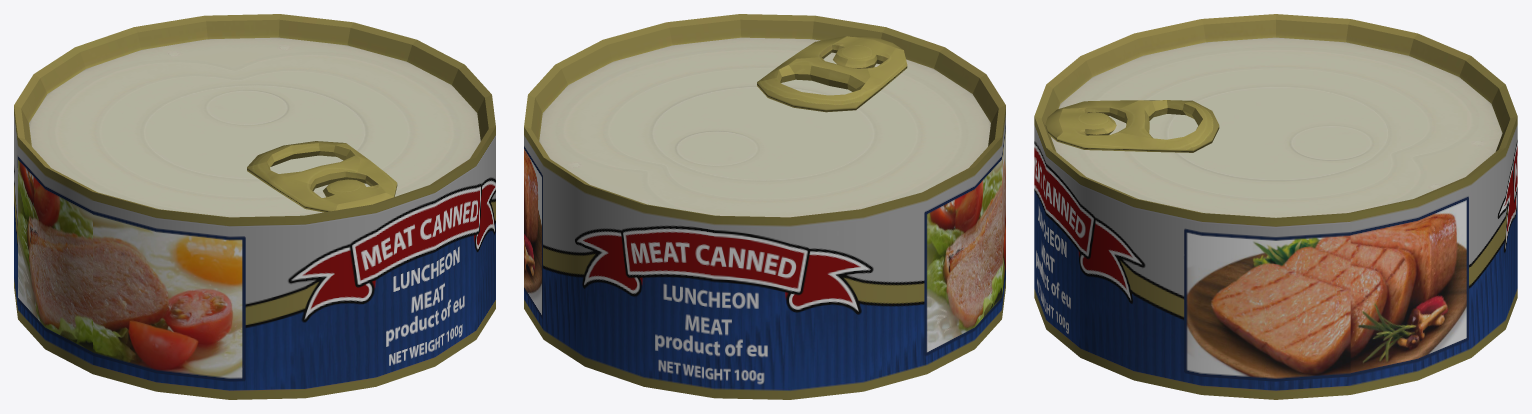
File: Lata-PIA.glb
3 views of the same model, side by side, from view 1: azimuth 30°, elevation 25°; view 2: azimuth 150°, elevation 25°; view 3: azimuth 270°, elevation 25° (orthographic).
Parts seen in each view (by area): view 1: pCylinder2; view 2: pCylinder2; view 3: pCylinder2.
Boxes of the visible parts, x1,y1,x2,y2 form: pCylinder2: [14, 14, 495, 399]; pCylinder2: [524, 14, 1005, 399]; pCylinder2: [1034, 14, 1517, 399].
Bounding box in the file's own units: 1.85 × 0.7678 × 1.85.
Materials: 1 (1 with a texture image).
